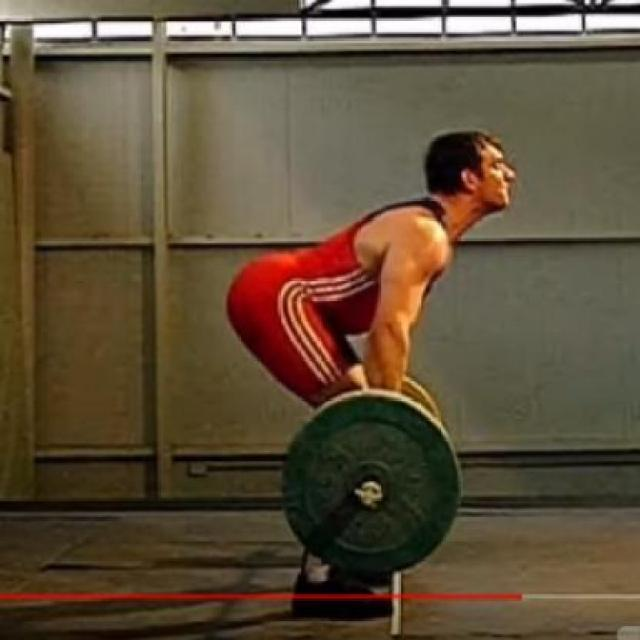Barbell: (350, 476, 388, 513)
